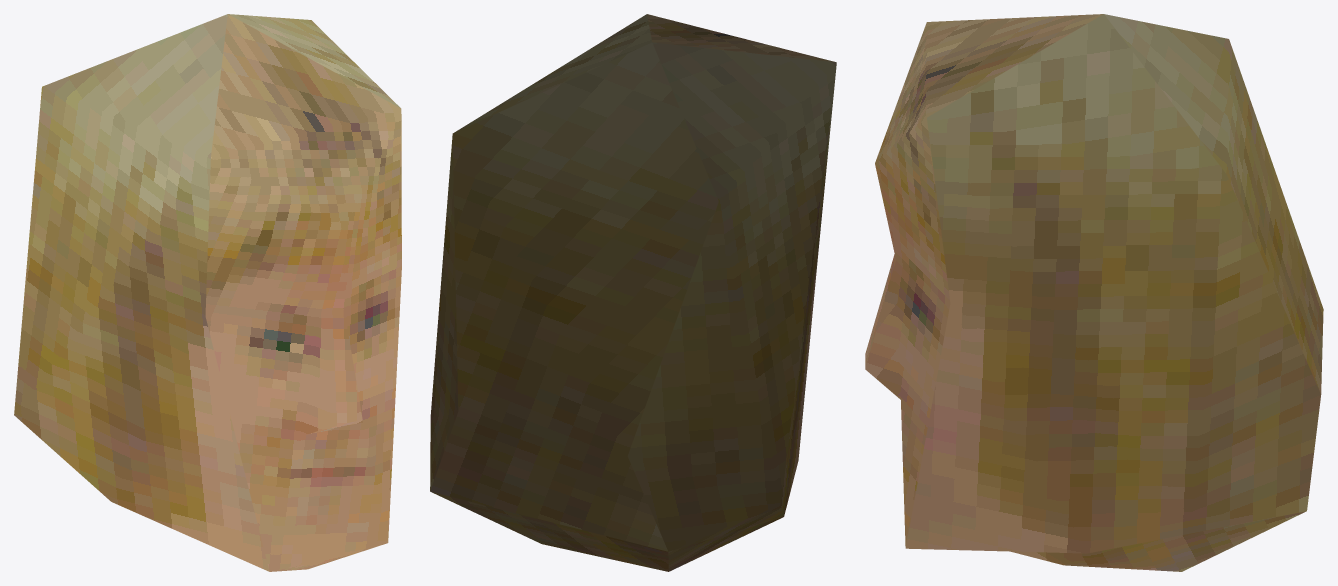
The model's file is CheadsallyZ.obj.
The picture shows the model from 3 angles, left to right: view 1: azimuth 30°, elevation 25°; view 2: azimuth 150°, elevation 25°; view 3: azimuth 270°, elevation 25°; orthographic projection. The views are drawn at different scales.
Bounding box in the file's own units: 181 × 248 × 194.
3 materials, 3 textured.
